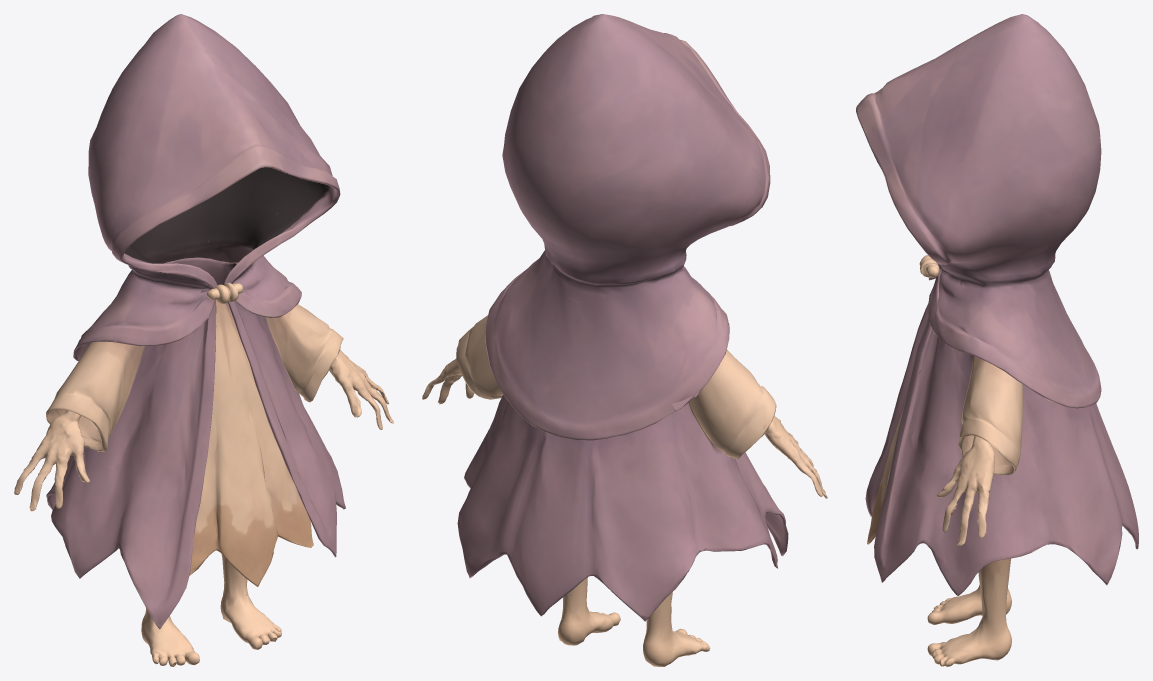
File: santa_compana.glb
3 renders of one model, left to right at view 1: azimuth 30°, elevation 25°; view 2: azimuth 150°, elevation 25°; view 3: azimuth 270°, elevation 25°, orthographic. The views are drawn at different scales.
Parts seen in each view (by area): view 1: geometry_0; view 2: geometry_0; view 3: geometry_0.
Boxes of the visible parts, bbox=[...] form: geometry_0: bbox=[14, 14, 393, 666]; geometry_0: bbox=[422, 14, 827, 666]; geometry_0: bbox=[856, 14, 1138, 666].
Size of the model in its own units: 0.6089 by 0.9507 by 0.3896.
Materials: 1 (1 with a texture image).
